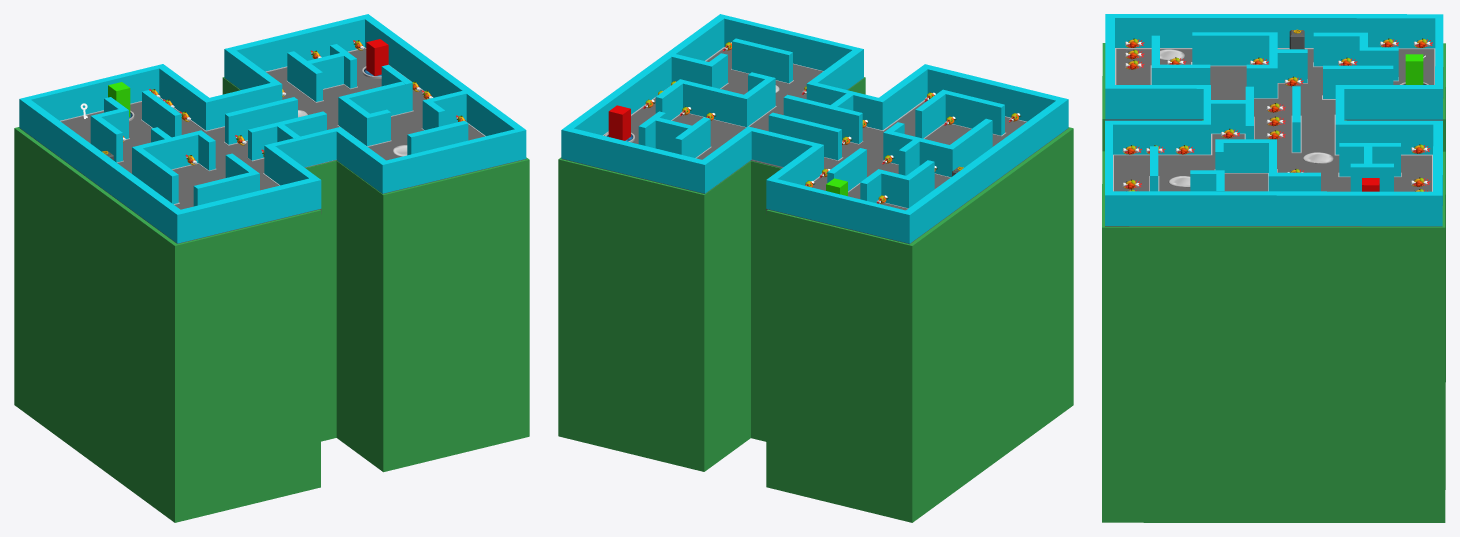
File: Level_25.fbx
The picture shows the model from 3 angles, left to right: view 1: azimuth 30°, elevation 25°; view 2: azimuth 150°, elevation 25°; view 3: azimuth 270°, elevation 25°; orthographic projection. The views are drawn at different scales.
Parts seen in each view (by area): view 1: Base_1, Compound, Base, Walls, Walls_7, Walls_12, Walls_9, Walls_1, Walls_2, Walls_19, Walls_10, Walls_5 (+10 smaller); view 2: Base_1, Compound, Base, Walls_2, Walls_1, Walls_12, Walls, Walls_7, Walls_9, Walls_5, Walls_15, Walls_19 (+10 smaller); view 3: Base_1, Compound, Base, Walls_7, Walls_5, Walls_10, Walls_8, Walls_19, Walls_17, Walls_11, Walls_4, Walls_18 (+8 smaller).
Boxes of the visible parts, box(x1,y1,x2,y2) form: Base_1: box(14, 77, 529, 522); Compound: box(19, 14, 526, 243); Base: box(20, 48, 526, 243); Walls: box(223, 97, 297, 145); Walls_7: box(132, 145, 179, 204); Walls_12: box(193, 171, 259, 206); Walls_9: box(139, 130, 204, 169); Walls_1: box(345, 81, 406, 116); Walls_2: box(407, 120, 468, 155); Walls_19: box(286, 51, 323, 102); Walls_10: box(141, 90, 181, 137); Walls_5: box(337, 95, 374, 145); Base_1: box(558, 77, 1073, 522); Compound: box(561, 14, 1068, 243); Base: box(561, 49, 1068, 244); Walls_2: box(730, 38, 793, 84); Walls_1: box(683, 81, 743, 126); Walls_12: box(939, 89, 1005, 136); Walls: box(768, 112, 843, 161); Walls_7: box(945, 118, 992, 177); Walls_9: box(883, 130, 949, 176); Walls_5: box(739, 76, 776, 127); Walls_15: box(783, 94, 836, 126); Walls_19: box(675, 117, 711, 158); Base_1: box(1102, 43, 1445, 522); Compound: box(1105, 14, 1443, 226); Base: box(1105, 49, 1442, 226); Walls_7: box(1191, 32, 1277, 66); Walls_5: box(1214, 139, 1277, 173); Walls_10: box(1322, 65, 1393, 99); Walls_8: box(1313, 32, 1359, 67); Walls_19: box(1338, 143, 1401, 177); Walls_17: box(1210, 100, 1254, 134); Walls_11: box(1160, 64, 1210, 84); Walls_4: box(1268, 172, 1320, 191); Walls_18: box(1350, 163, 1393, 191).
Bounding box in the file's own units: 174 × 144 × 137.
